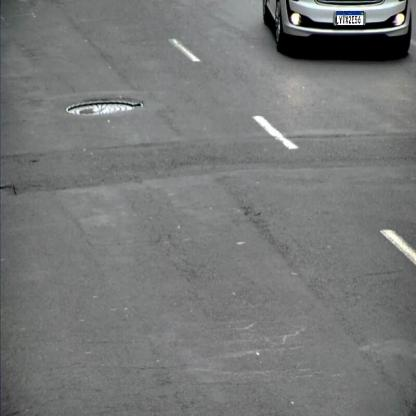PlacaM: (336, 11, 364, 26)
